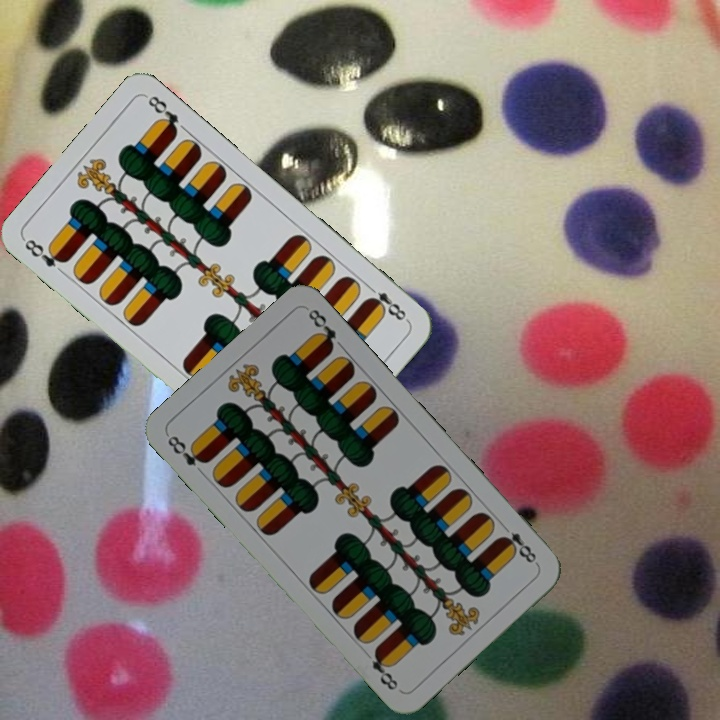E8: (495, 520, 541, 568), (363, 280, 411, 324), (163, 431, 211, 469), (20, 235, 71, 270)
